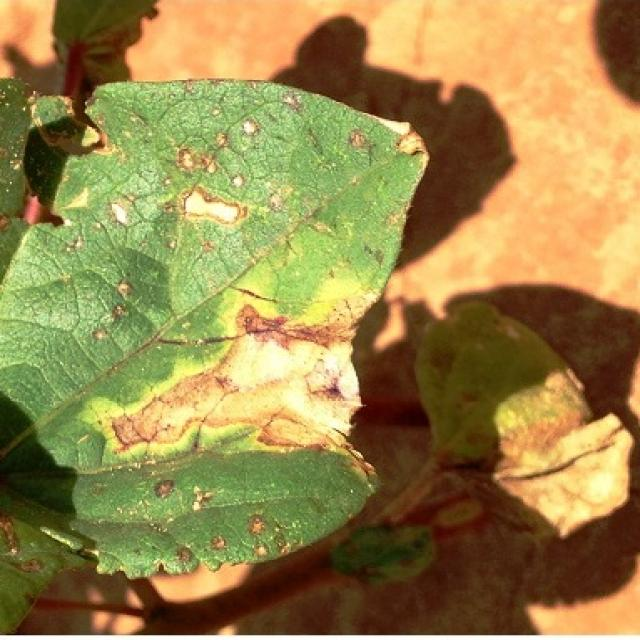Fusarium Wilt: (23, 102, 359, 480)
